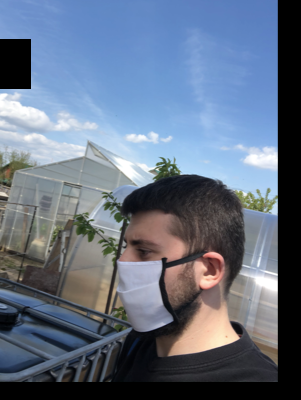with_mask: (115, 233, 176, 337)
